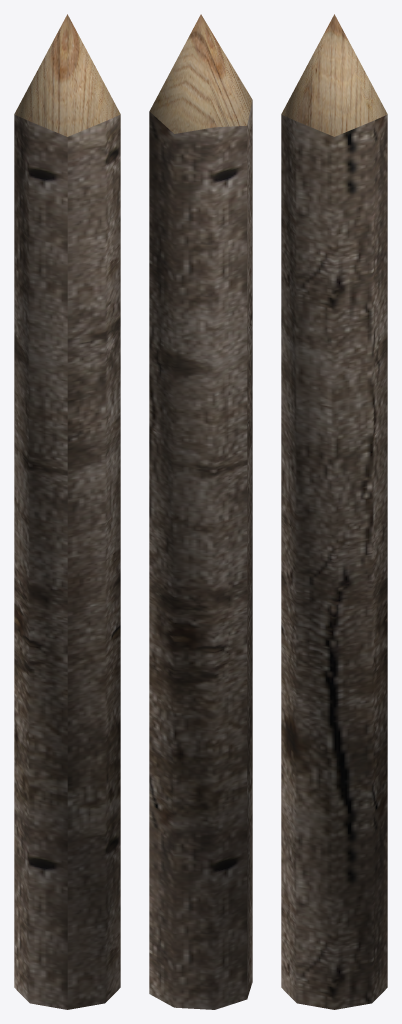
The model's file is Pale.fbx.
3 renders of one model, left to right at view 1: azimuth 90°, elevation 25°; view 2: azimuth 150°, elevation 25°; view 3: azimuth 270°, elevation 25°, orthographic.
Parts seen in each view (by area): view 1: Pale; view 2: Pale; view 3: Pale.
Part boxes in pixels (x1=…): Pale: x1=14, y1=14, x2=120, y2=1009; Pale: x1=149, y1=14, x2=252, y2=1009; Pale: x1=281, y1=14, x2=387, y2=1009.
Size of the model in its own units: 25.72 by 259 by 25.72.
